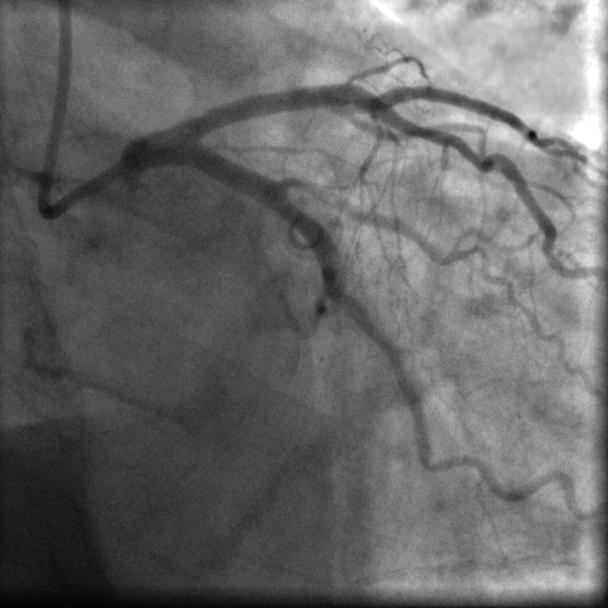Stenosis: (277, 170, 312, 198)
